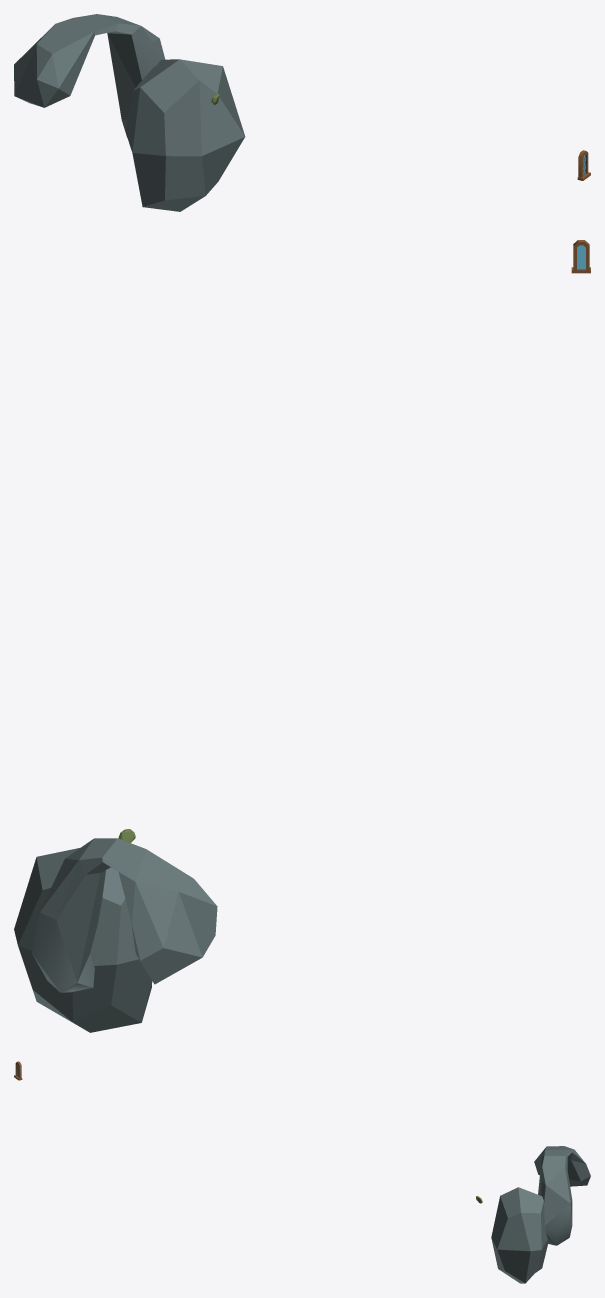
The picture shows the model from 3 angles, top to bottom: view 1: azimuth 30°, elevation 25°; view 2: azimuth 150°, elevation 25°; view 3: azimuth 270°, elevation 25°; orthographic projection. The views are drawn at different scales.
Visible parts, largest first — view 1: Box061_rock_0, Box283_rock_0; view 2: Box283_rock_0, Box061_rock_0; view 3: Box061_rock_0, Box283_rock_0.
Boxes of the visible parts, <box> form: Box061_rock_0: <box>125,59,245,211</box>; Box283_rock_0: <box>14,14,165,137</box>; Box283_rock_0: <box>32,838,217,992</box>; Box061_rock_0: <box>14,847,152,1032</box>; Box061_rock_0: <box>491,1187,547,1283</box>; Box283_rock_0: <box>534,1146,590,1245</box>.
Bounding box in the file's own units: 1073 × 1989 × 4705.
